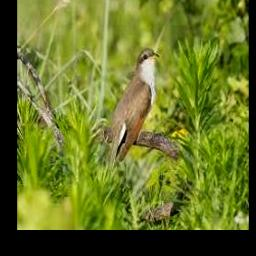Cuckoo: (107, 48, 160, 171)
